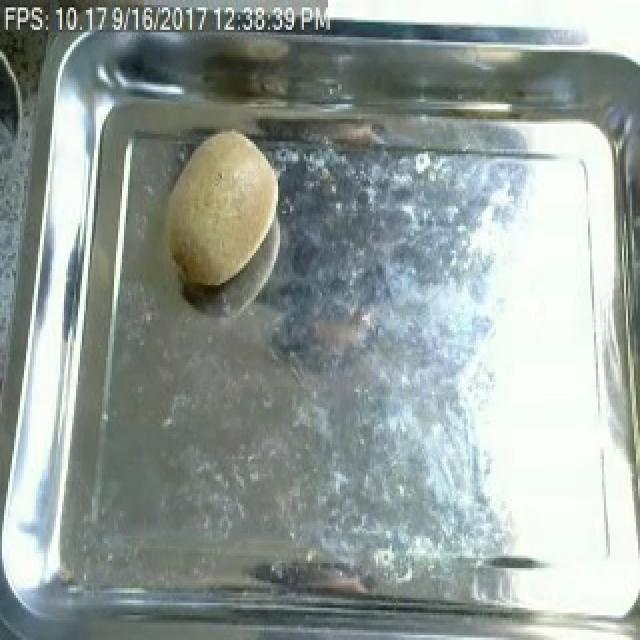Fruit: (150, 121, 288, 302)
